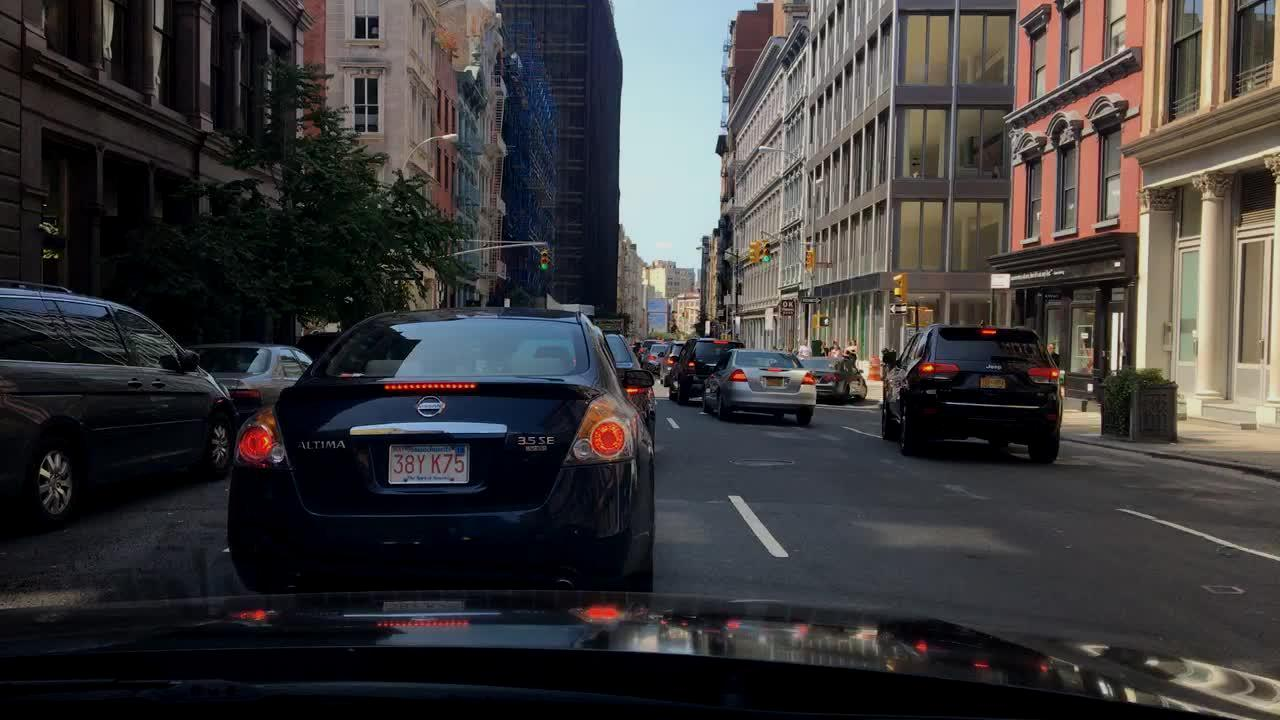Nissan: (410, 386, 452, 424)
jeep: (976, 360, 1012, 377)
